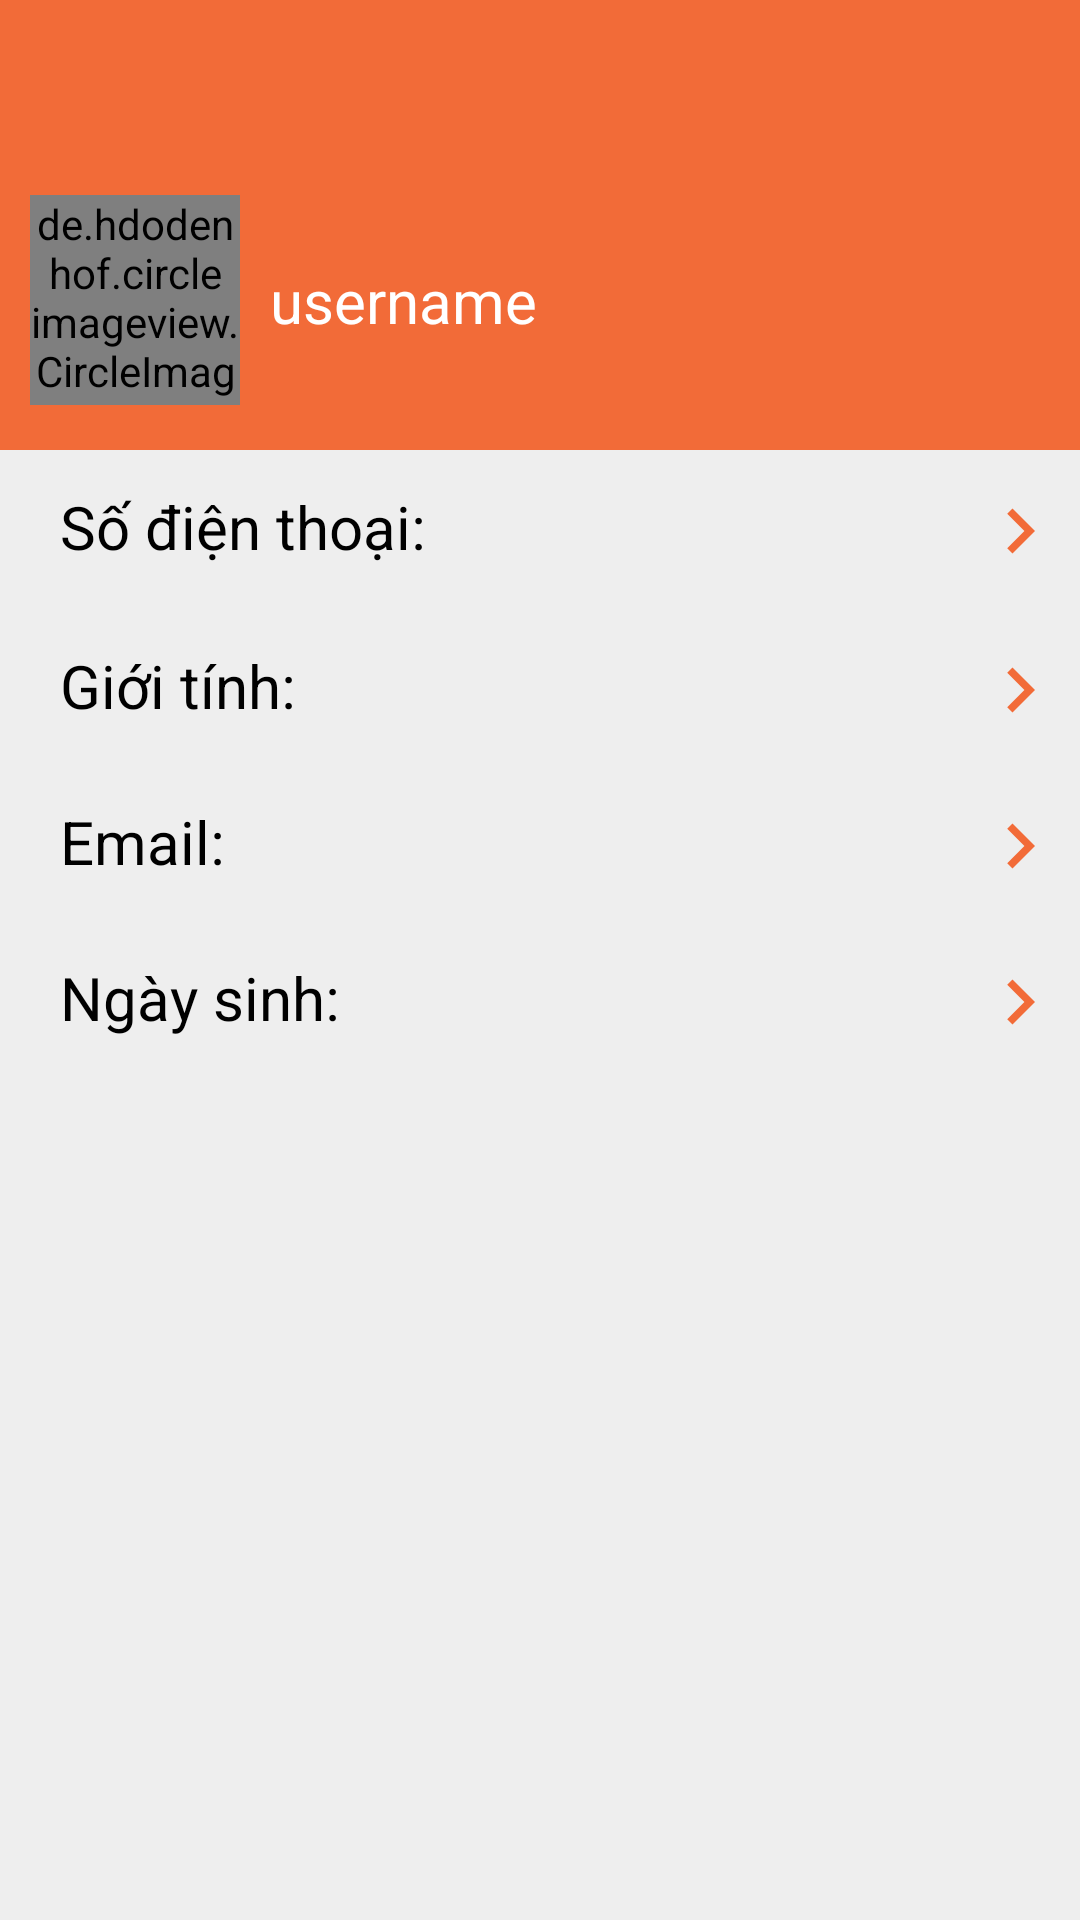

Icons on this 1080px×1920px Android screen, each with the point to tap as (x,y):
navigate next: (1021,531), (1021,690), (1021,846), (1021,1002)
